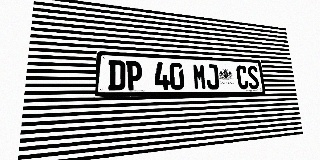0: (169, 62, 184, 90)
4: (154, 62, 170, 90)
C: (236, 65, 249, 89)
D: (108, 60, 125, 90)
J: (205, 64, 219, 90)
M: (192, 63, 207, 90)
P: (126, 61, 142, 90)
S: (247, 66, 260, 89)
